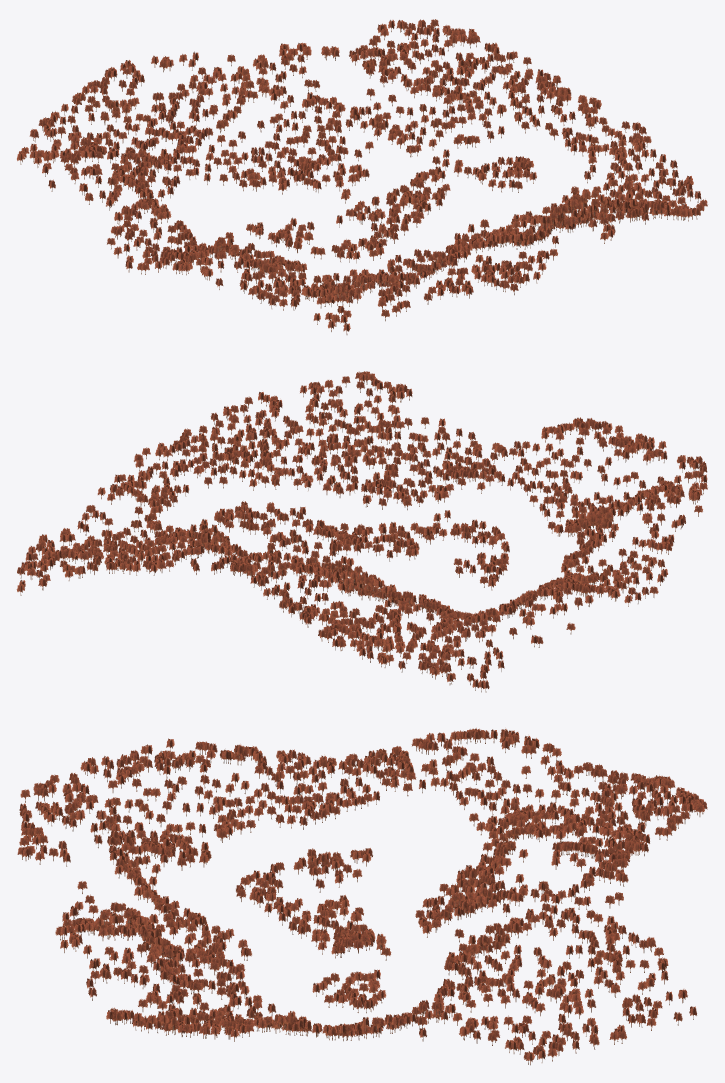
Rendered from Tree_Imposter.fbx.
3 views of the same model, one above another, from view 1: azimuth 30°, elevation 25°; view 2: azimuth 150°, elevation 25°; view 3: azimuth 270°, elevation 25° (orthographic). The views are drawn at different scales.
Parts seen in each view (by area): view 1: Tree_Imposter; view 2: Tree_Imposter; view 3: Tree_Imposter.
Boxes of the visible parts, x1=… form: Tree_Imposter: x1=17, y1=19, x2=707, y2=334; Tree_Imposter: x1=16, y1=371, x2=707, y2=692; Tree_Imposter: x1=17, y1=728, x2=707, y2=1065.
Bounding box in the file's own units: 172593 × 24265 × 173557.
